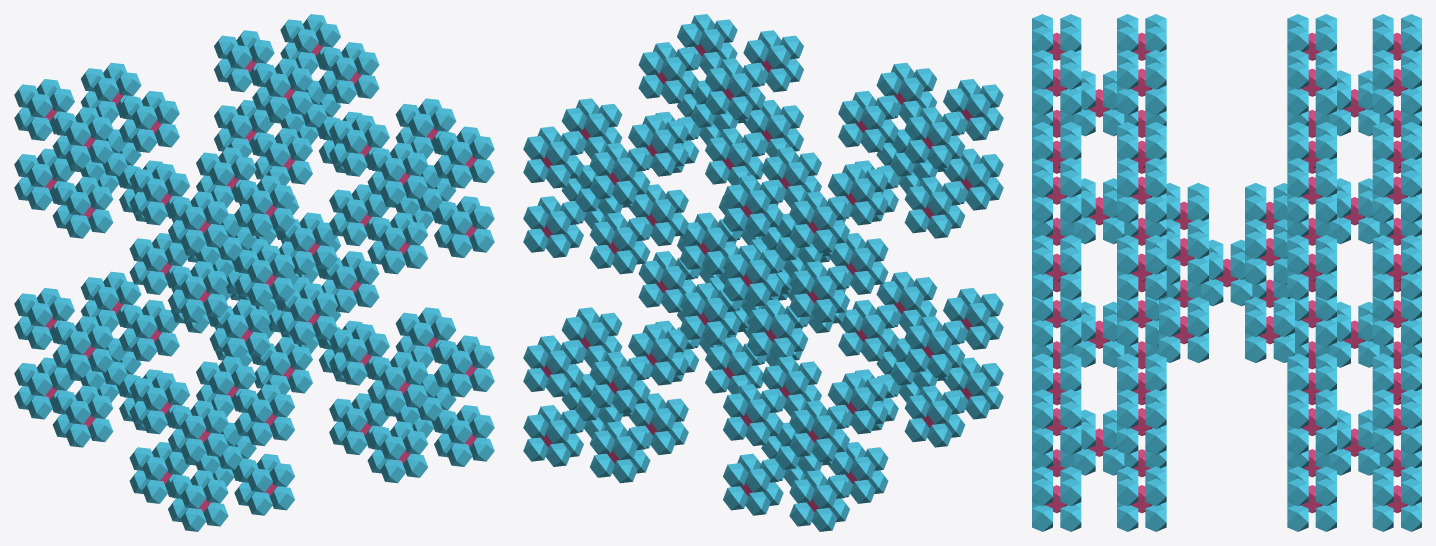
File: fractalcuboctahedron3.glb
The picture shows the model from 3 angles, left to right: view 1: azimuth 30°, elevation 25°; view 2: azimuth 150°, elevation 25°; view 3: azimuth 270°, elevation 25°; orthographic projection. The views are drawn at different scales.
Bounding box in the file's own units: 5.98 × 5.98 × 5.98.
